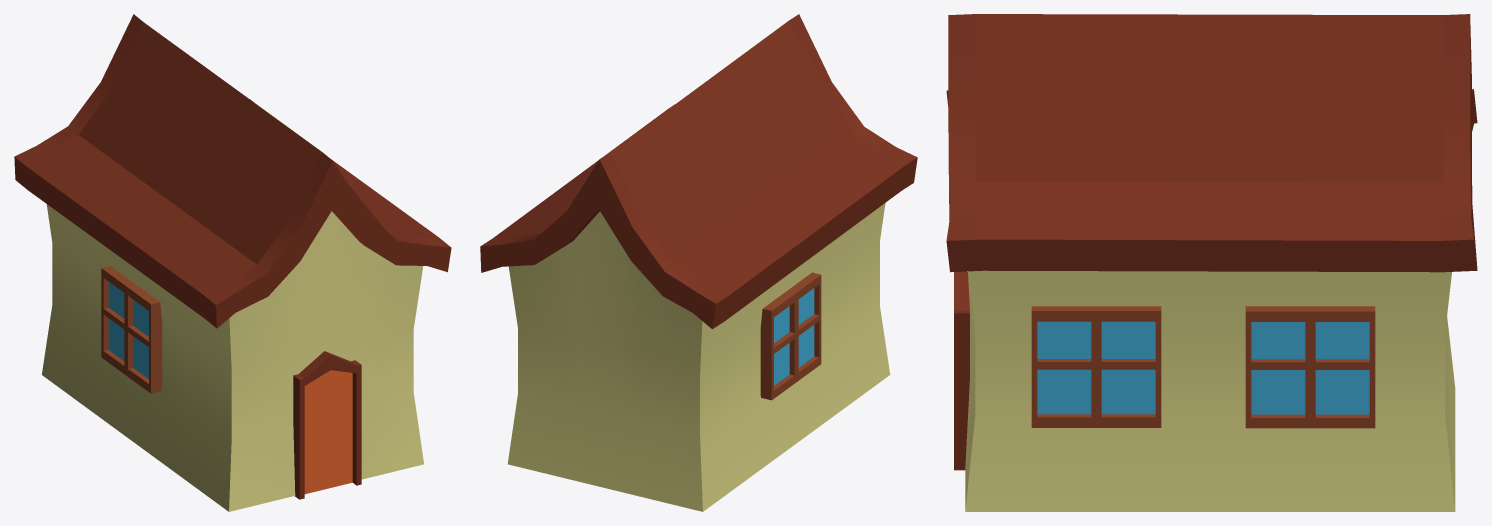
File: CadaS.fbx
3 renders of one model, left to right at view 1: azimuth 30°, elevation 25°; view 2: azimuth 150°, elevation 25°; view 3: azimuth 270°, elevation 25°, orthographic. The views are drawn at different scales.
Parts seen in each view (by area): view 1: Casa2; view 2: Casa2; view 3: Casa2.
Boxes of the visible parts, x1,y1,x2,y2 form: Casa2: [14, 14, 451, 511]; Casa2: [480, 14, 917, 511]; Casa2: [946, 14, 1477, 511].
Bounding box in the file's own units: 239 × 324 × 357.
